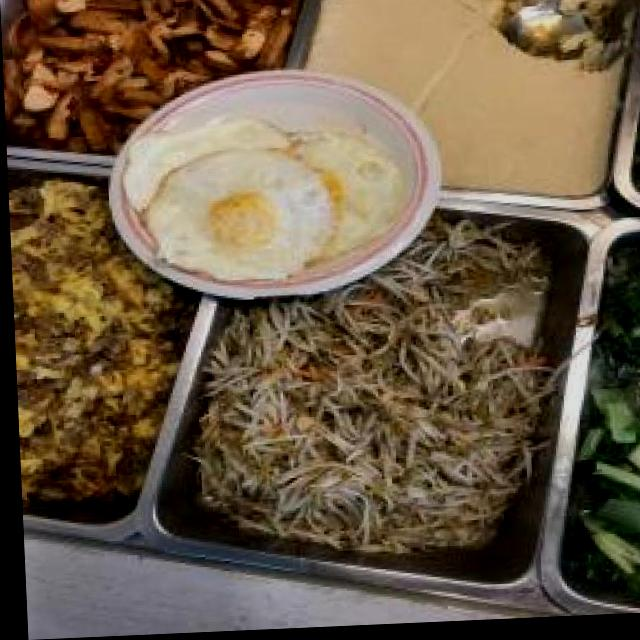fried_eggs: (140, 121, 398, 278)
mung_bean_sprouts: (224, 316, 509, 529)
